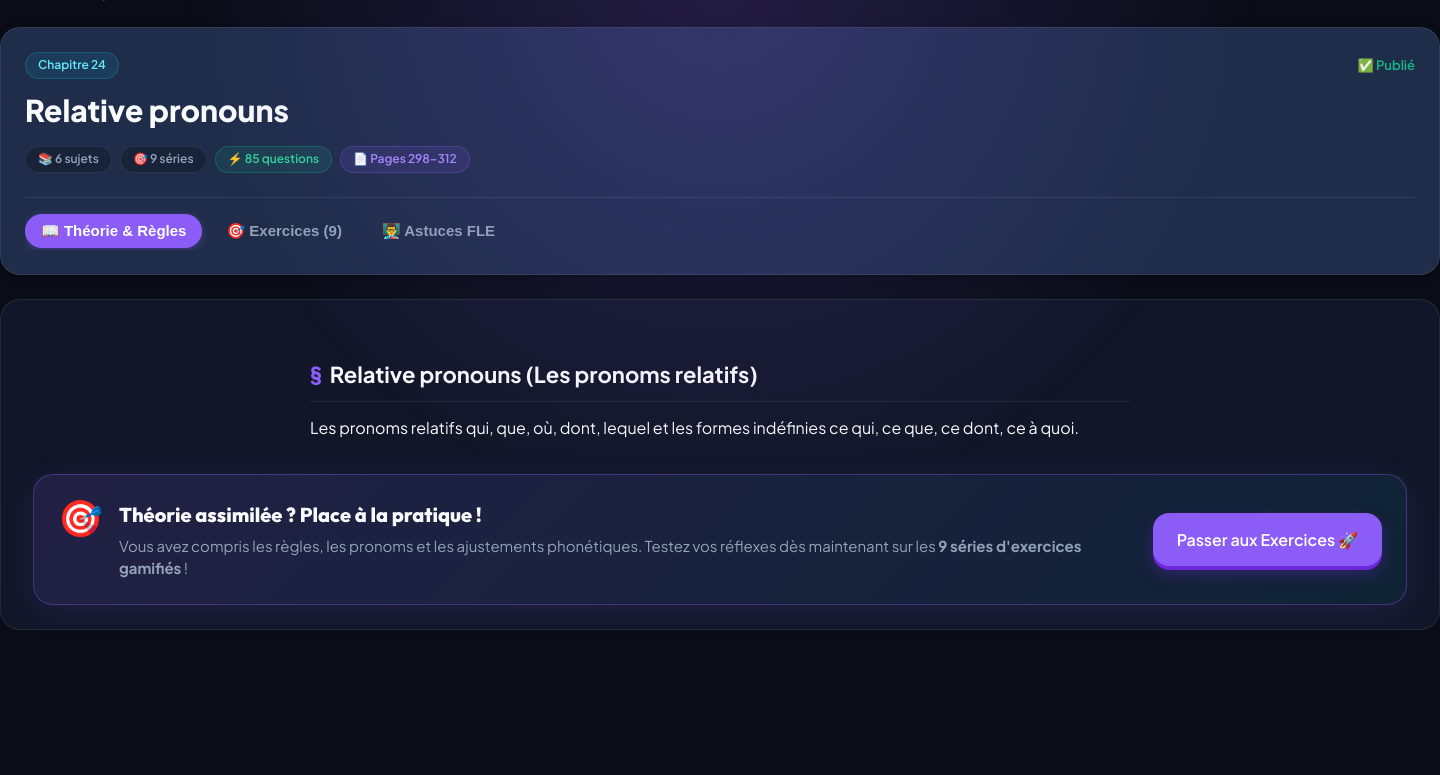
Test: ChapterPage Component › affiche la théorie, les 9 séries d exercices et les astuces FLE pour le chapitre 24 (Relative pronouns)
The image size is (1440, 775).
Expected: the heading "Relative pronouns" is shown, top-left (25, 91), bottom-right (289, 129)
Expected: the text "Les pronoms relatifs qui, que, où, dont, lequel et les formes indéfinies" is shown, top-left (310, 417), bottom-right (1079, 438)
Note: Passage à l'onglet Exercices (9)
Click the tab "🎯 Exercices (9)" at [284, 231], box top-left (210, 214), bottom-right (358, 248)
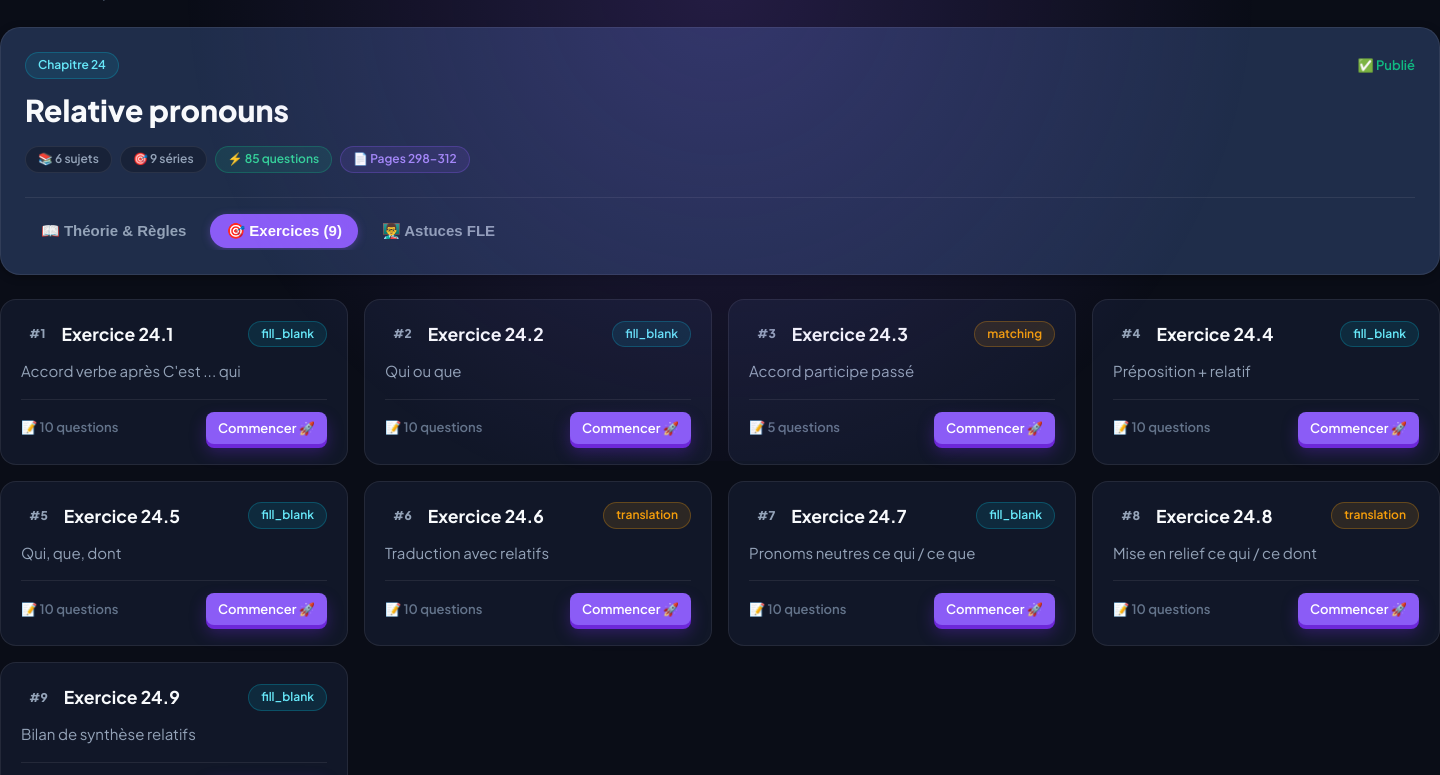
Now the heading "Exercice 24.1" is shown, box top-left (62, 320), bottom-right (174, 348)
Now the heading "Exercice 24.4" is shown, box top-left (1156, 320), bottom-right (1273, 348)
Now the heading "Exercice 24.9" is shown, box top-left (64, 683), bottom-right (180, 711)
Note: Passage à l'onglet Astuces FLE
Click the tab "👨‍🏫 Astuces FLE" at [438, 231], box top-left (366, 214), bottom-right (511, 248)
(page scrolled)
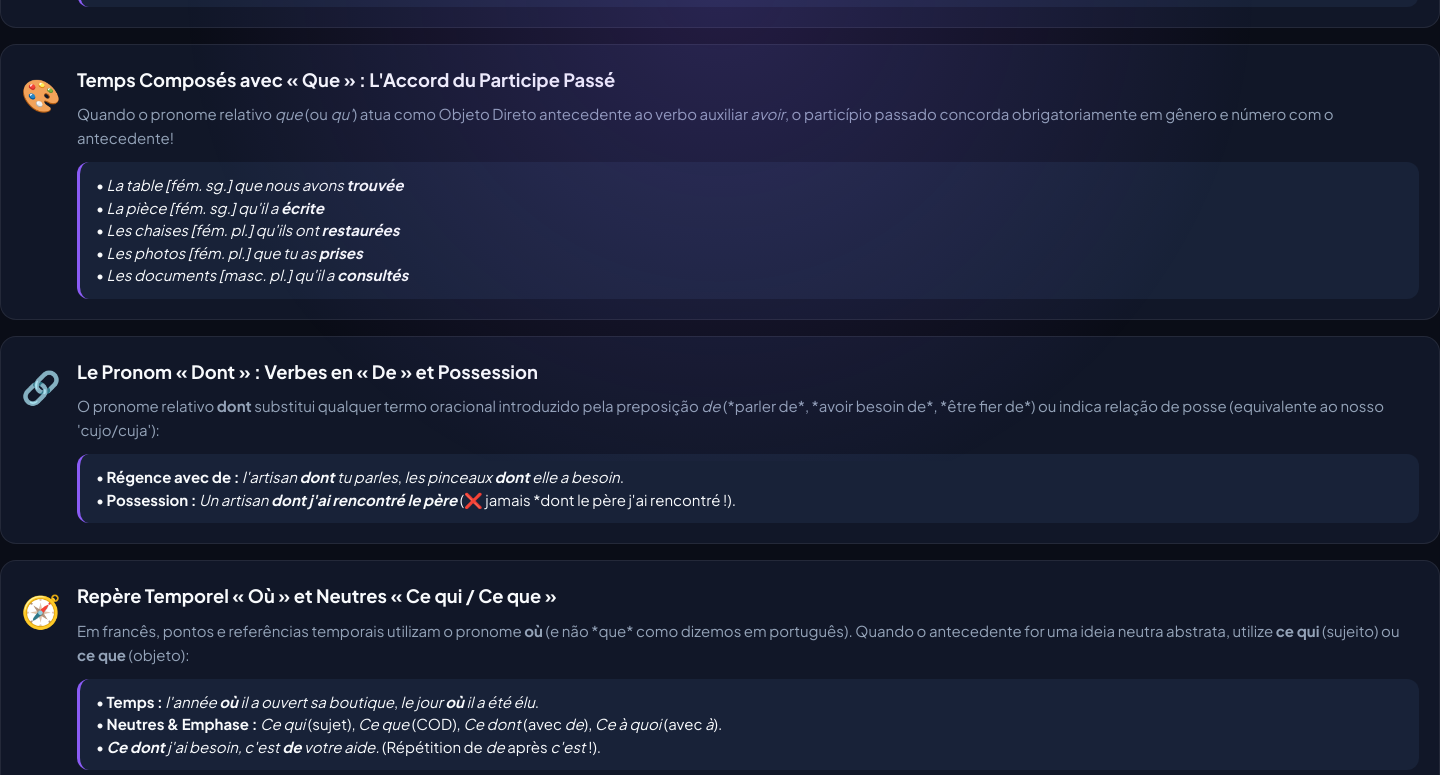
Now the heading "Temps Composés avec « Que » : L'Accord du Participe Passé" is shown, box top-left (77, 68), bottom-right (615, 91)
Now the heading "Le Pronom « Dont » : Verbes en « De » et Possession" is shown, box top-left (77, 360), bottom-right (538, 383)
Now the heading "Repère Temporel « Où » et Neutres « Ce qui / Ce que »" is shown, box top-left (77, 584), bottom-right (557, 607)
